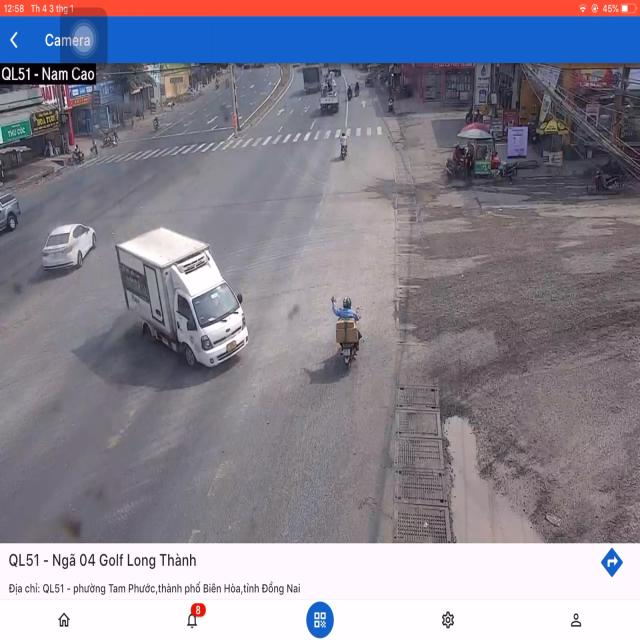car: (42, 222, 98, 274), (0, 190, 19, 243)
motorbike: (336, 300, 362, 376), (340, 130, 350, 164)
truck: (118, 229, 251, 372)
